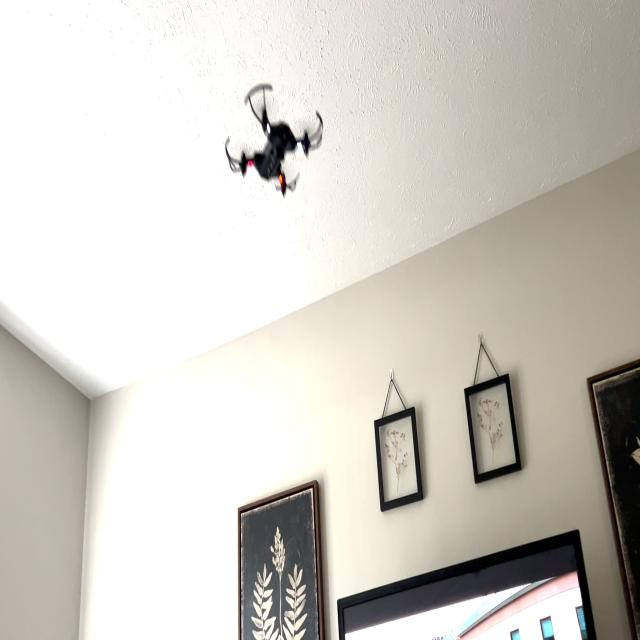drone: (218, 64, 330, 216)
